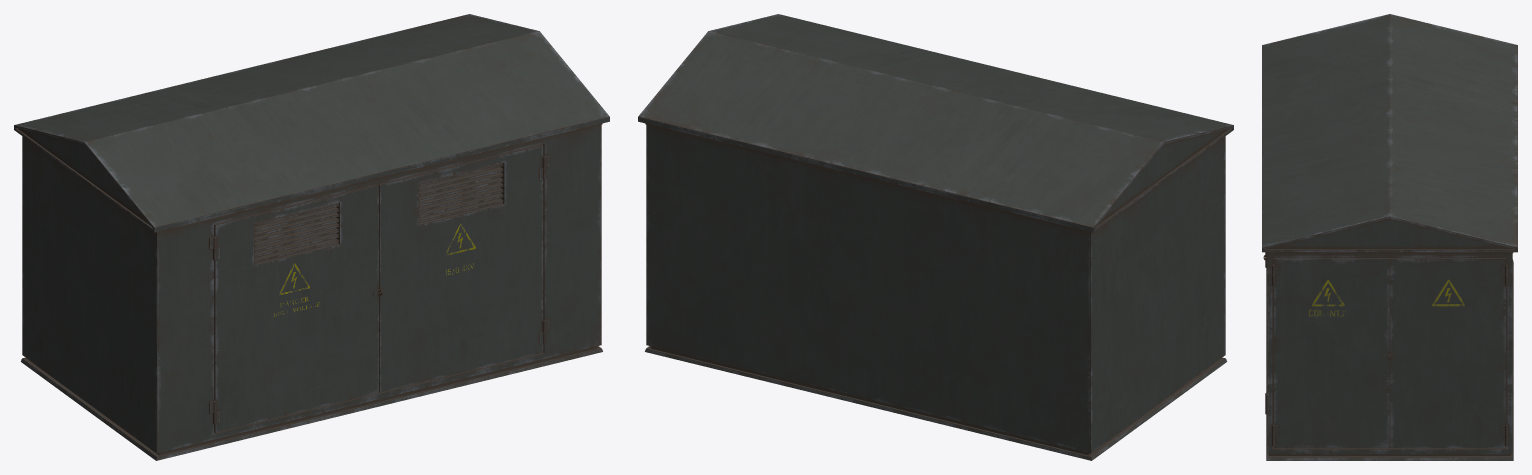
Rendered from Transformer Station 2.fbx.
3 renders of one model, left to right at view 1: azimuth 30°, elevation 25°; view 2: azimuth 150°, elevation 25°; view 3: azimuth 270°, elevation 25°, orthographic. The views are drawn at different scales.
Parts seen in each view (by area): view 1: Transformer Station2; view 2: Transformer Station2; view 3: Transformer Station2.
Boxes of the visible parts, box(x1,y1,x2,y2) form: Transformer Station2: box(14, 14, 609, 460); Transformer Station2: box(638, 14, 1233, 460); Transformer Station2: box(1262, 14, 1517, 460).
Size of the model in its own units: 348 by 197 by 186.
